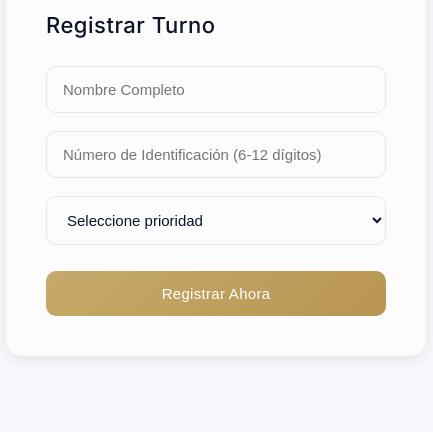
AppointmentRegistrationForm › Form Validation › should prevent submission with empty full name
Step 1. Type "123456" into the field with placeholder "Número de Identificación (6-12 dígitos)" → (216, 154), box [46,131,386,178]
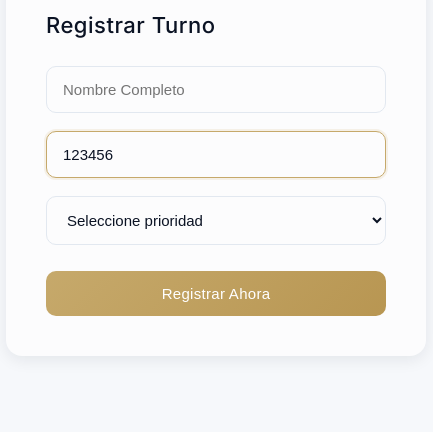
Step 2. Select "Prioridad Alta" in the dropdown → (216, 220), box [46,196,386,245]
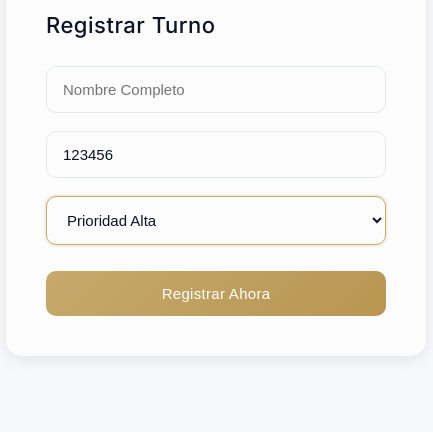
Step 3. Click the button "Registrar Ahora" → (216, 294), box [46,271,386,316]
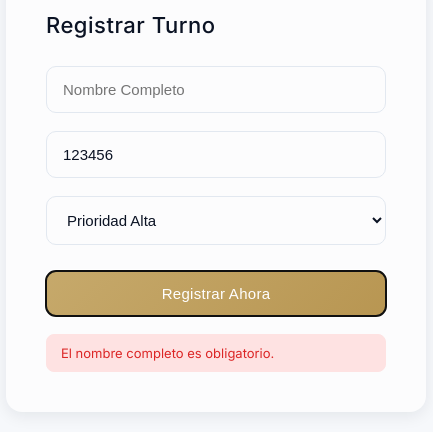
Now the text "El nombre completo es obligatorio." is shown, box [46,334,386,372]
